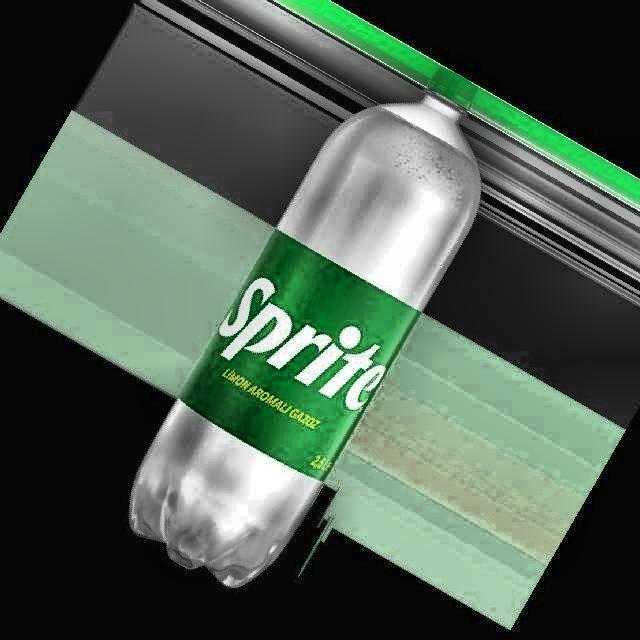plastic: (130, 62, 480, 586)
